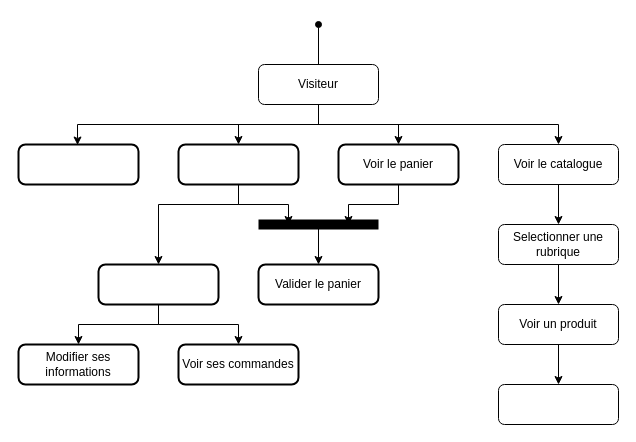
Image size: 636x442. Some labels were removed from this diagram. The centre of each missing label's shape, as x and y in pixels:
"Ajouter au panier" goes at pixel 558 404.
"Connexion" goes at pixel 238 164.
"Inscription" goes at pixel 78 164.
"Voir son profil" goes at pixel 158 284.
